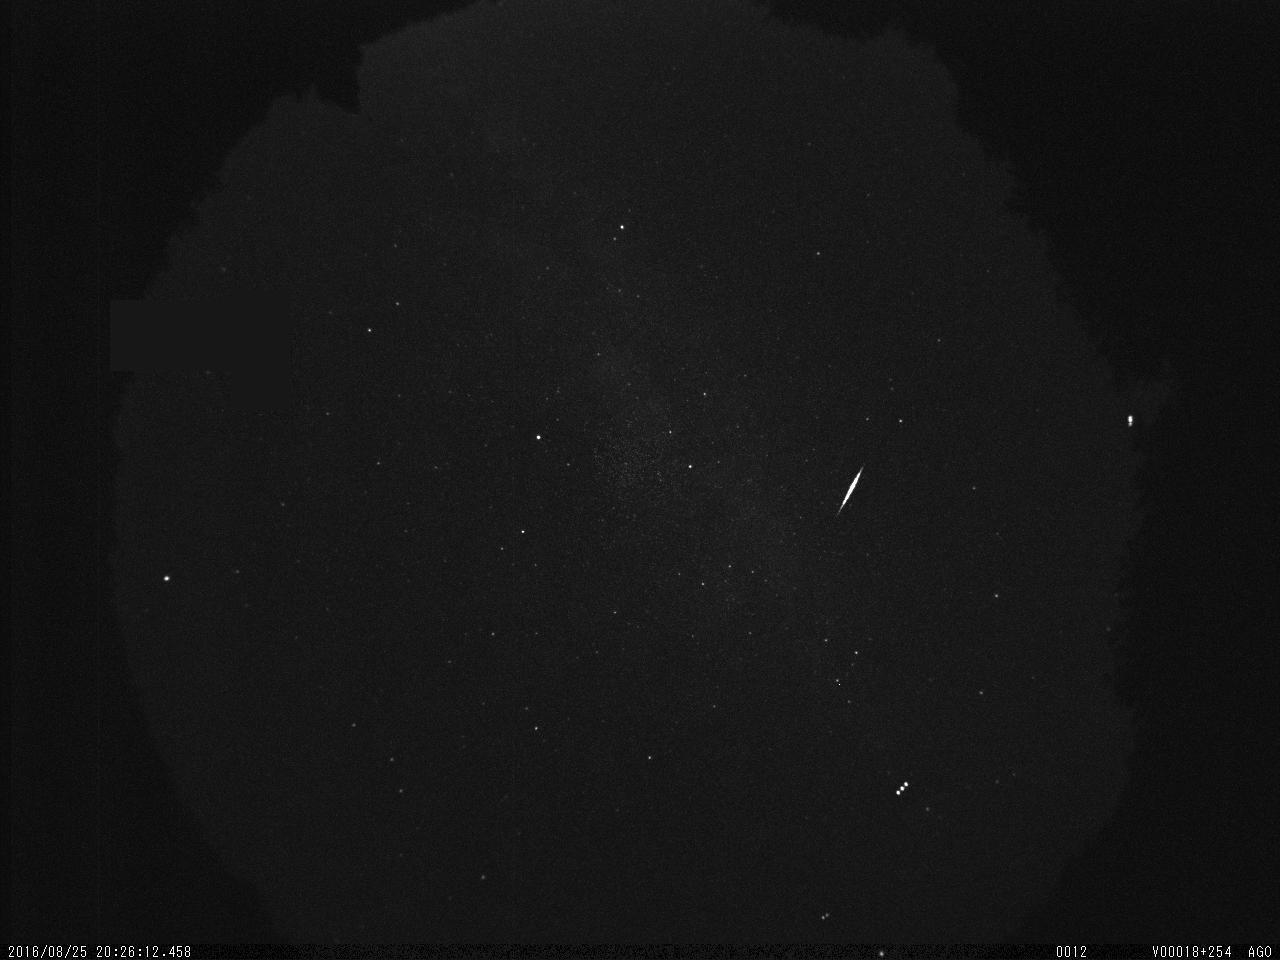meteor: (828, 457, 875, 523)
satelite: (892, 771, 912, 805)
